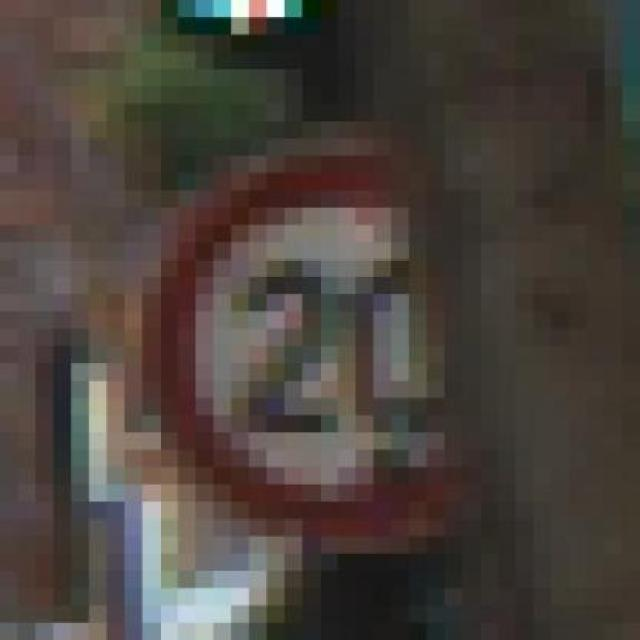forb_speed_over_20: (152, 153, 455, 536)
